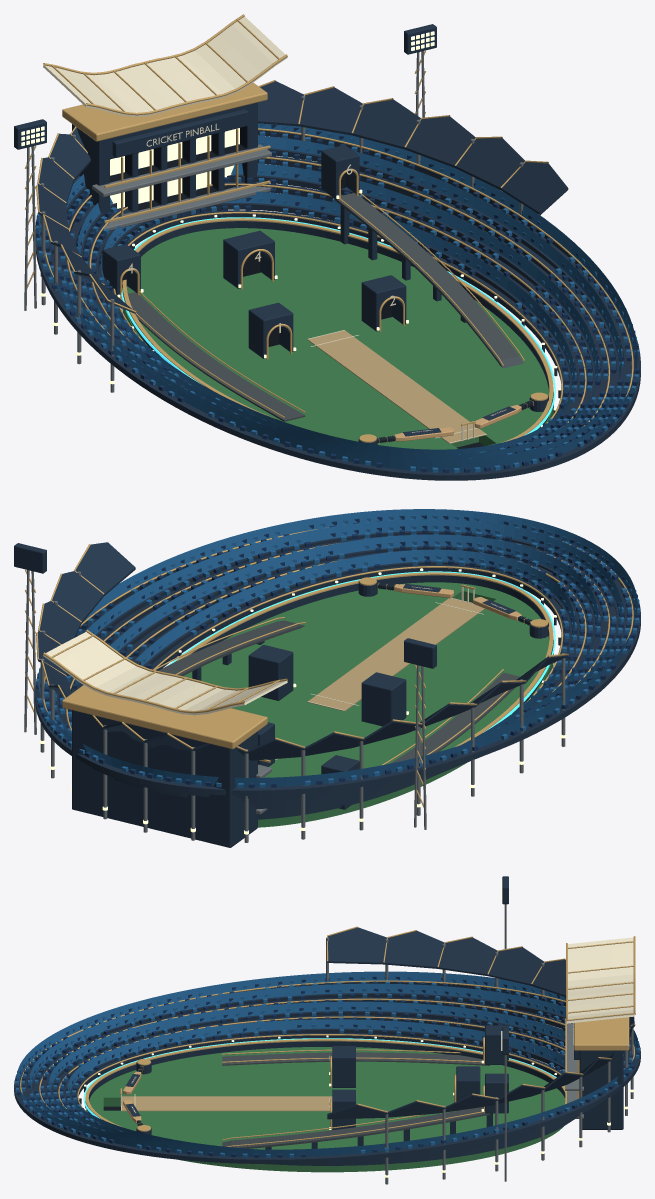
The model's file is cricket-stadium-colosseum-r6.glb.
The picture shows the model from 3 angles, top to bottom: view 1: azimuth 30°, elevation 25°; view 2: azimuth 150°, elevation 25°; view 3: azimuth 270°, elevation 25°; orthographic projection. The views are drawn at different scales.
Visible parts, largest first — view 1: Arena_Field_Substrate, Pavilion_Sculpted_Canopy, Individual_Seats_1, Individual_Seats_0, Crowd_Band_09, Seating_Terrace_09, Crowd_Band_04, Crowd_Band_07, Pavilion_Shell, Crowd_Band_01, Measured_Pitch, Six_Ramp (+38 smaller); view 2: Arena_Field_Substrate, Pavilion_Shell, Crowd_Band_09, Individual_Seats_0, Individual_Seats_1, Crowd_Band_07, Pavilion_Sculpted_Canopy, Crowd_Band_04, Seating_Terrace_09, Crowd_Band_01, Pavilion_Cornice, Measured_Pitch (+36 smaller); view 3: Arena_Field_Substrate, Crowd_Band_09, Crowd_Band_07, Individual_Seats_0, Individual_Seats_1, Crowd_Band_04, Seating_Terrace_09, Crowd_Band_01, Pavilion_Sculpted_Canopy, Measured_Pitch, Seating_Terrace_00, Boundary_Cushion (+34 smaller).
Part boxes in pixels (left/top/right/bottom): Arena_Field_Substrate: left=122, top=228, right=553, bottom=449; Pavilion_Sculpted_Canopy: left=43, top=16, right=287, bottom=116; Individual_Seats_1: left=36, top=124, right=639, bottom=472; Individual_Seats_0: left=35, top=123, right=639, bottom=472; Crowd_Band_09: left=38, top=123, right=637, bottom=472; Seating_Terrace_09: left=35, top=130, right=640, bottom=480; Crowd_Band_04: left=77, top=163, right=598, bottom=459; Crowd_Band_07: left=58, top=135, right=621, bottom=462; Pavilion_Shell: left=72, top=102, right=257, bottom=227; Crowd_Band_01: left=101, top=191, right=574, bottom=454; Measured_Pitch: left=307, top=330, right=486, bottom=443; Six_Ramp: left=334, top=193, right=523, bottom=368; Arena_Field_Substrate: left=183, top=582, right=553, bottom=827; Pavilion_Shell: left=72, top=710, right=257, bottom=847; Crowd_Band_09: left=38, top=509, right=637, bottom=787; Individual_Seats_0: left=36, top=515, right=640, bottom=787; Individual_Seats_1: left=36, top=515, right=640, bottom=788; Crowd_Band_07: left=54, top=519, right=621, bottom=736; Pavilion_Sculpted_Canopy: left=43, top=632, right=287, bottom=715; Crowd_Band_04: left=110, top=534, right=598, bottom=740; Seating_Terrace_09: left=35, top=548, right=640, bottom=795; Crowd_Band_01: left=135, top=549, right=574, bottom=744; Pavilion_Cornice: left=62, top=685, right=267, bottom=749; Measured_Pitch: left=307, top=598, right=484, bottom=711; Arena_Field_Substrate: left=85, top=1047, right=565, bottom=1172; Crowd_Band_09: left=16, top=971, right=637, bottom=1157; Crowd_Band_07: left=29, top=983, right=624, bottom=1149; Individual_Seats_0: left=15, top=976, right=639, bottom=1157; Individual_Seats_1: left=15, top=976, right=639, bottom=1157; Crowd_Band_04: left=48, top=1001, right=565, bottom=1149; Seating_Terrace_09: left=14, top=982, right=640, bottom=1163; Crowd_Band_01: left=67, top=1019, right=565, bottom=1149; Pavilion_Sculpted_Canopy: left=567, top=937, right=634, bottom=1023; Measured_Pitch: left=121, top=1096, right=332, bottom=1111; Seating_Terrace_00: left=71, top=1033, right=566, bottom=1165; Boundary_Cushion: left=85, top=1041, right=565, bottom=1114.
Bounding box in the file's own units: 11.04 × 4.56 × 16.41.
